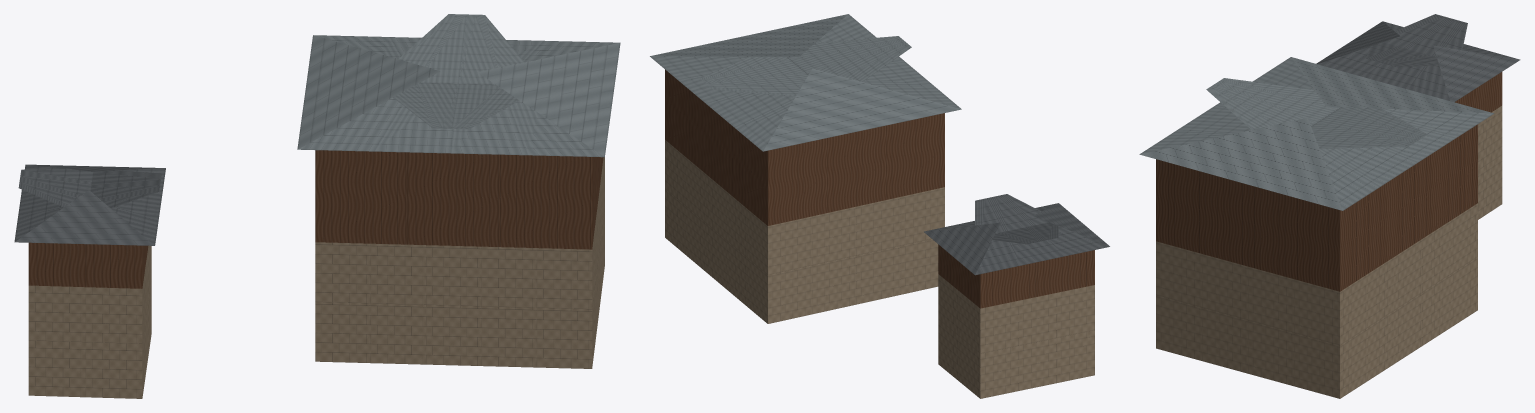
Rendered from bld_c2_16_465.gltf.
The picture shows the model from 3 angles, left to right: view 1: azimuth 30°, elevation 25°; view 2: azimuth 150°, elevation 25°; view 3: azimuth 270°, elevation 25°; orthographic projection. The views are drawn at different scales.
Visible parts, largest first — view 1: bld_c2_16_465; view 2: bld_c2_16_465; view 3: bld_c2_16_465.
Part boxes in pixels (box(x1,y1,x2,y2)): bld_c2_16_465: box(14, 14, 620, 398); bld_c2_16_465: box(650, 14, 1109, 398); bld_c2_16_465: box(1139, 14, 1520, 398).
Size of the model in its own units: 24.97 by 10.5 by 15.75.
Materials: 4 (4 with a texture image).
